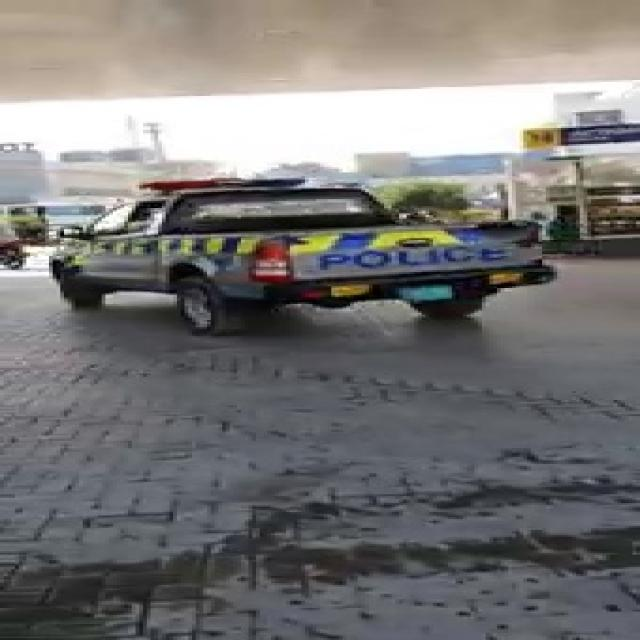police: (110, 172, 497, 350)
